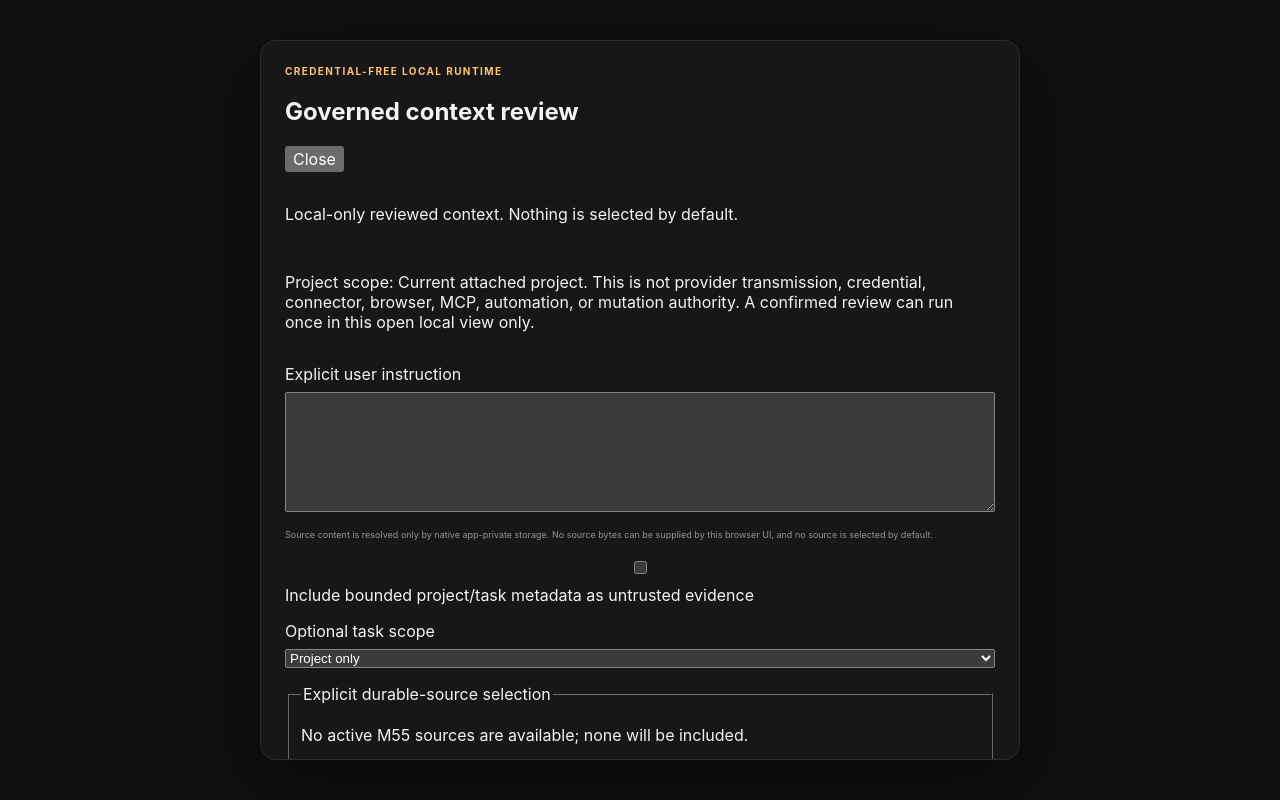
ContextAssemblyWorkbench › does not consume an acknowledged review when the local model is unavailable
This screenshot has width=1280, height=800.
Type "Summarize the reviewed request" into the text box labelled "Explicit user instruction".
click(640, 452); type("Summarize the reviewed request")  # box [285,392,995,512]
(page scrolled)
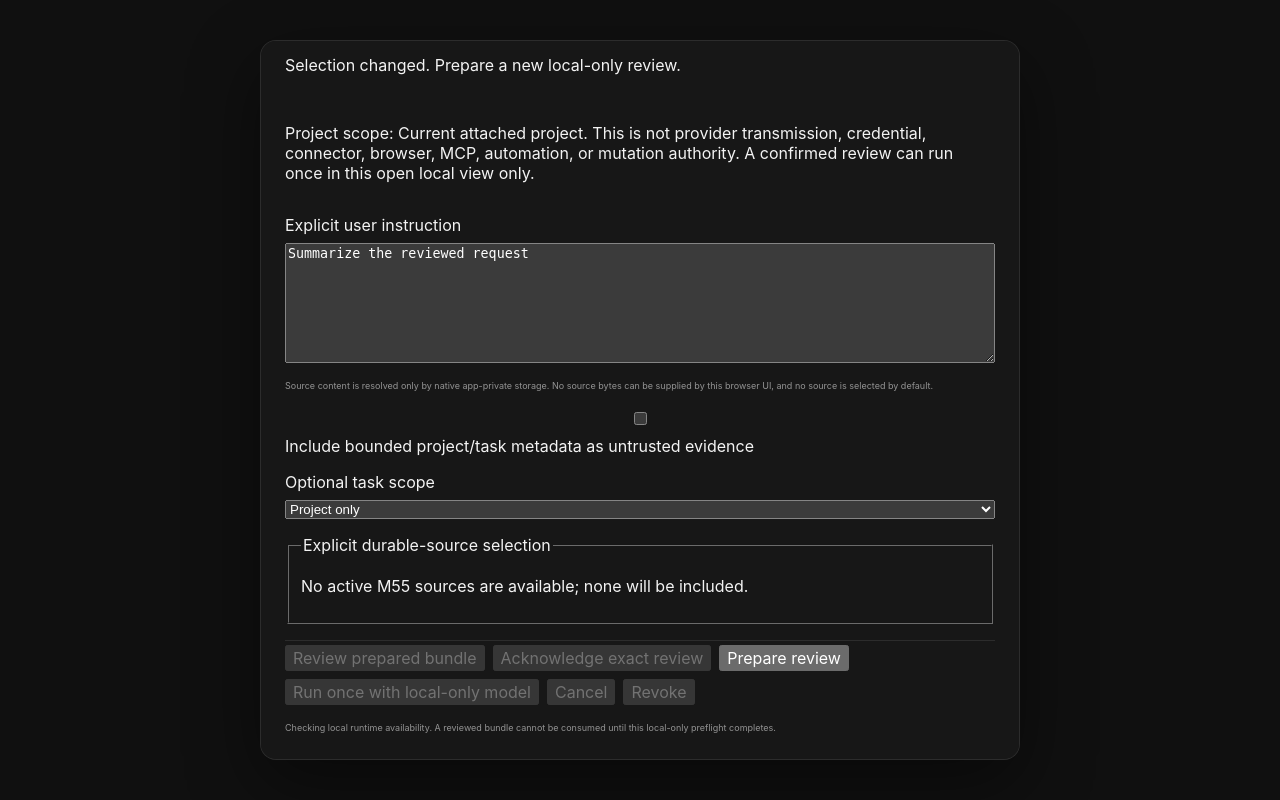
Click the button "Prepare review".
click(784, 658)  # box [719,645,849,671]
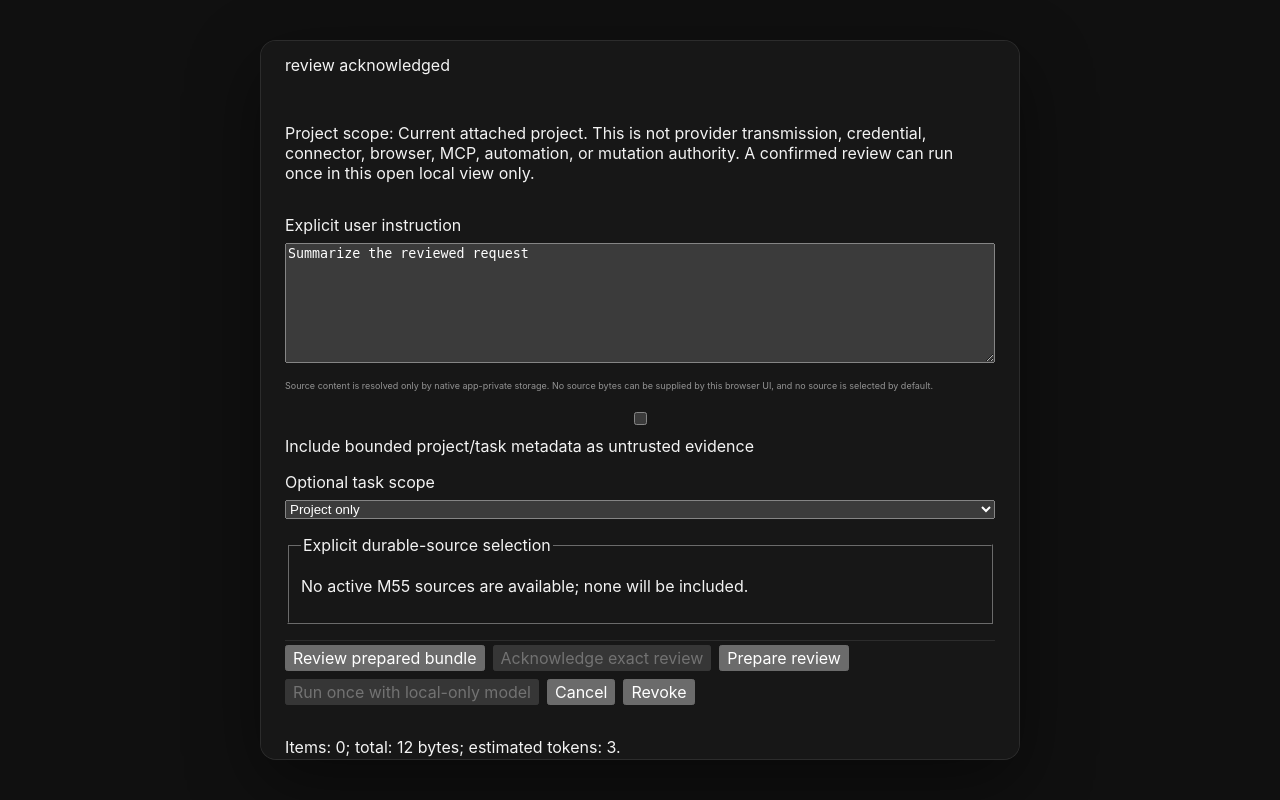
expect the button "Review prepared bundle" is shown: met
Click the button "Review prepared bundle".
click(385, 658)  # box [285,645,484,671]
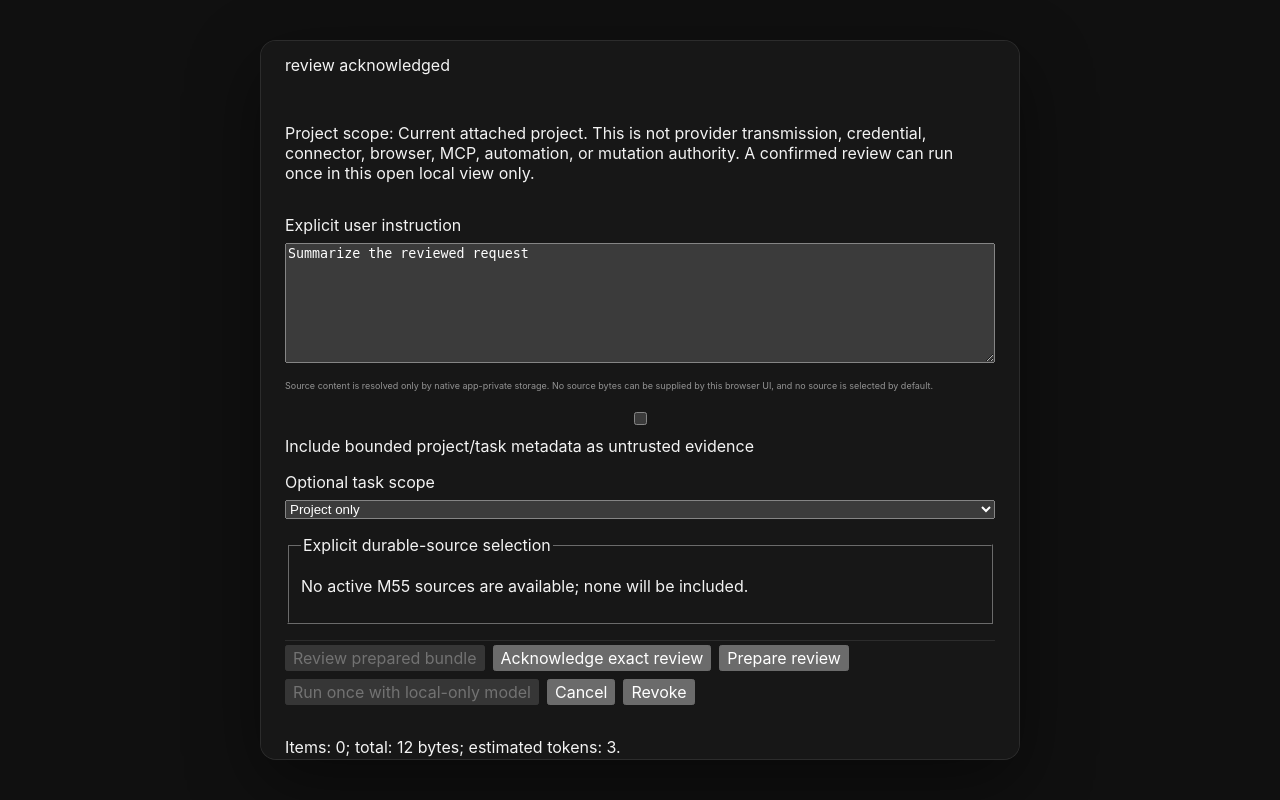
expect the button "Acknowledge exact review" is shown: met
Click the button "Acknowledge exact review".
click(602, 658)  # box [492,645,711,671]
(page scrolled)
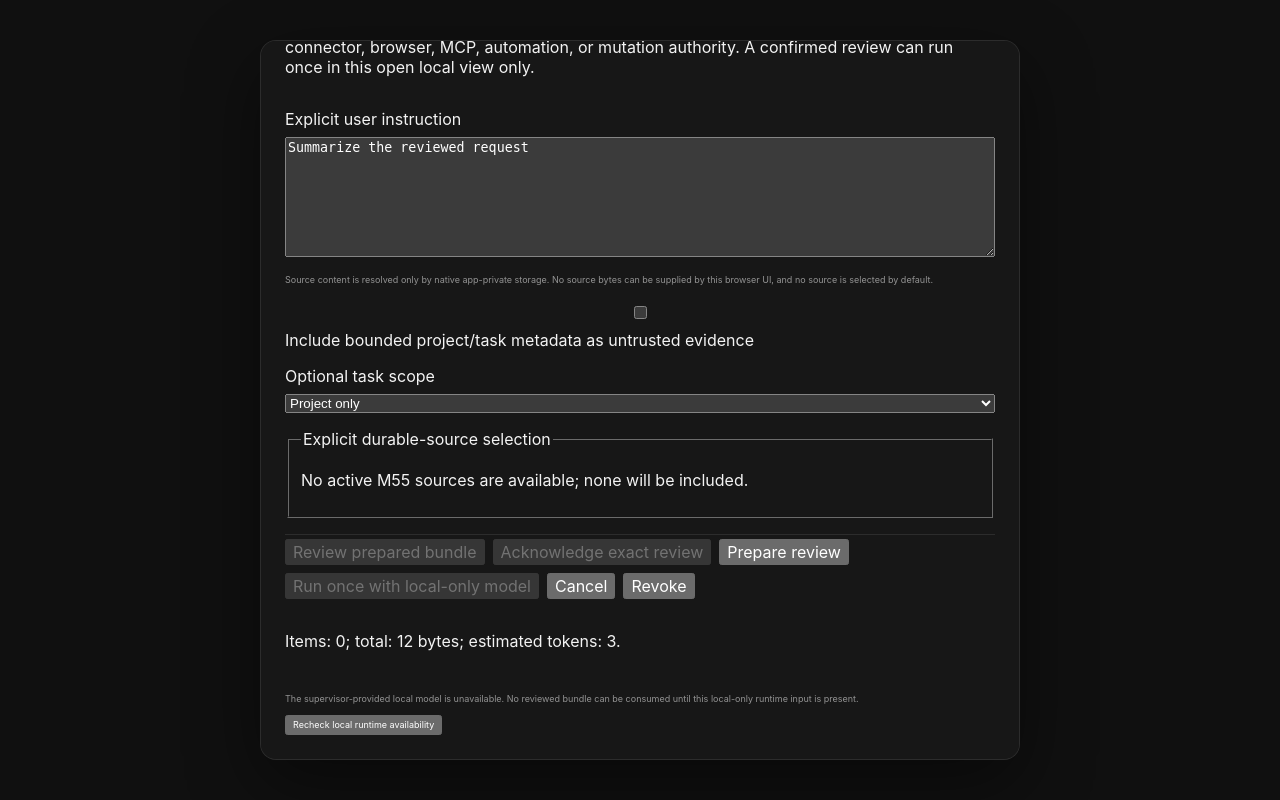
expect the button "Run once with local-only model" is disabled: met, box [285,573,539,599]
expect the text "no reviewed bundle can be consumed" is shown: met, box [285,693,858,704]
Click the button "Recheck local runtime availability".
click(364, 725)  # box [285,715,442,735]
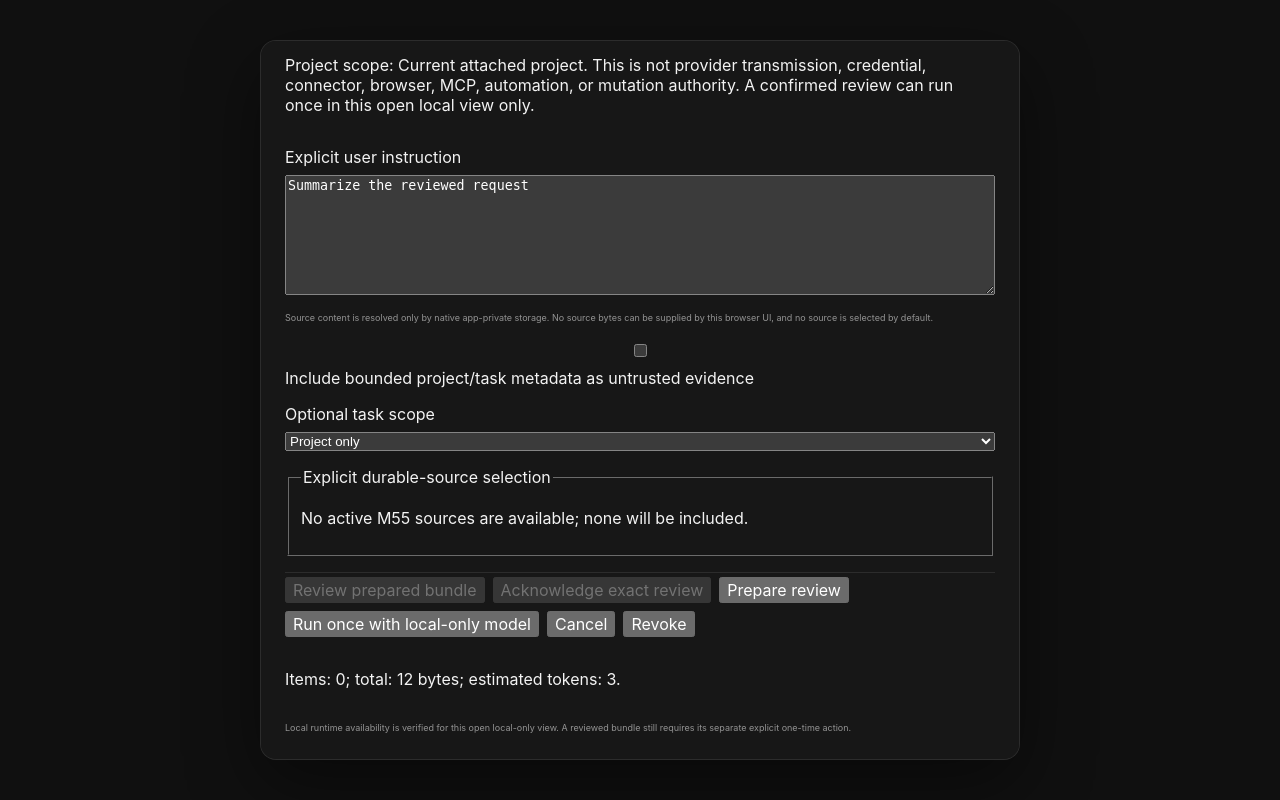
expect the button "Run once with local-only model" is enabled: met, box [285,611,539,637]
